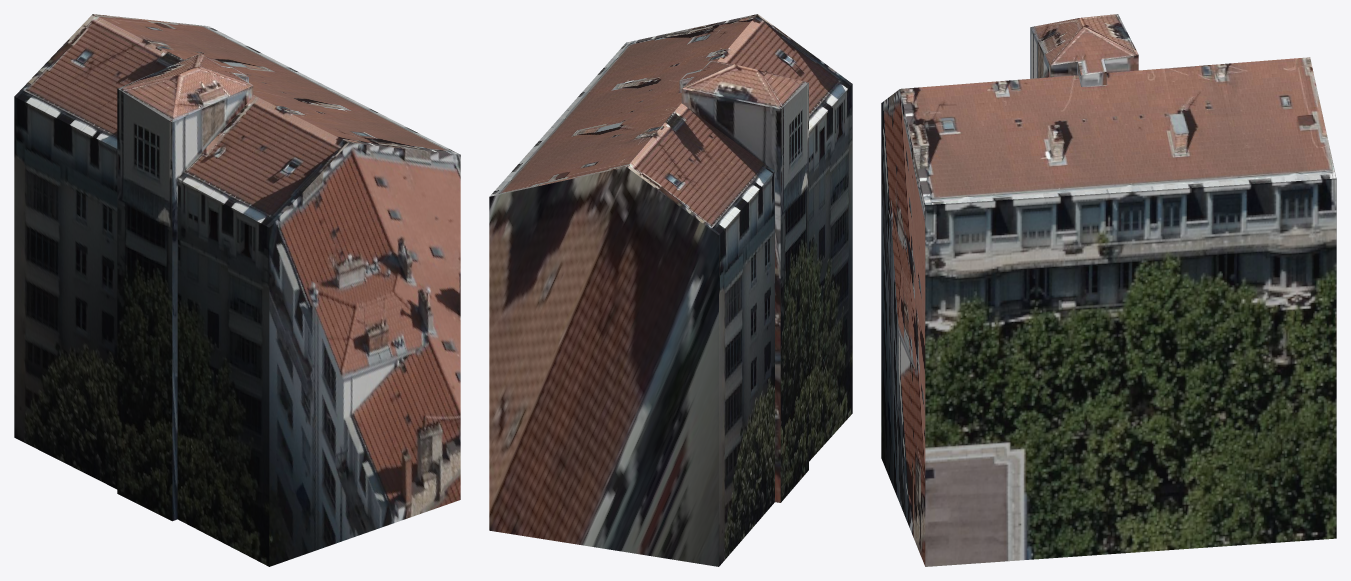
3 views of the same model, side by side, from view 1: azimuth 30°, elevation 25°; view 2: azimuth 150°, elevation 25°; view 3: azimuth 270°, elevation 25° (orthographic). The views are drawn at different scales.
Parts seen in each view (by area): view 1: Z_UP; view 2: Z_UP; view 3: Z_UP.
Part boxes in pixels (x1,y1,x2,y2): Z_UP: (14, 14, 460, 566); Z_UP: (489, 14, 852, 566); Z_UP: (881, 14, 1336, 566).
Size of the model in its own units: 19.93 by 29.78 by 27.67.
2 materials, 1 textured.
